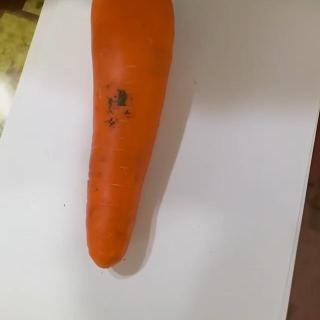carrot: (84, 0, 178, 268)
